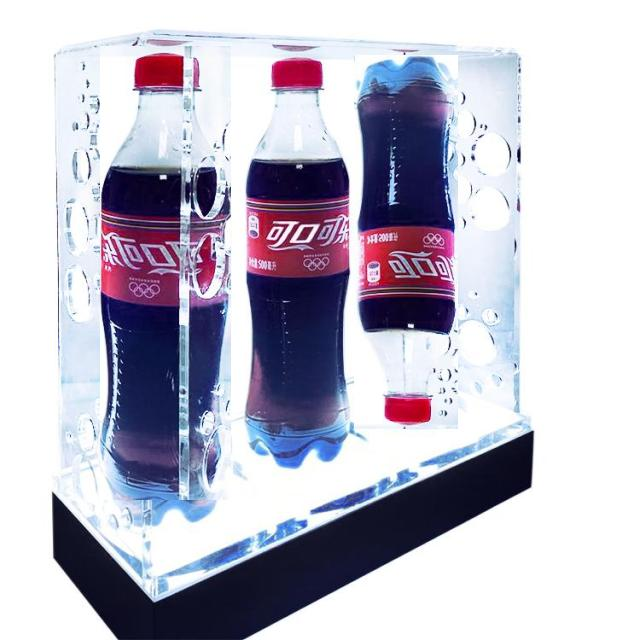coca-cola: (100, 46, 231, 500), (244, 60, 354, 451), (354, 56, 458, 430)
